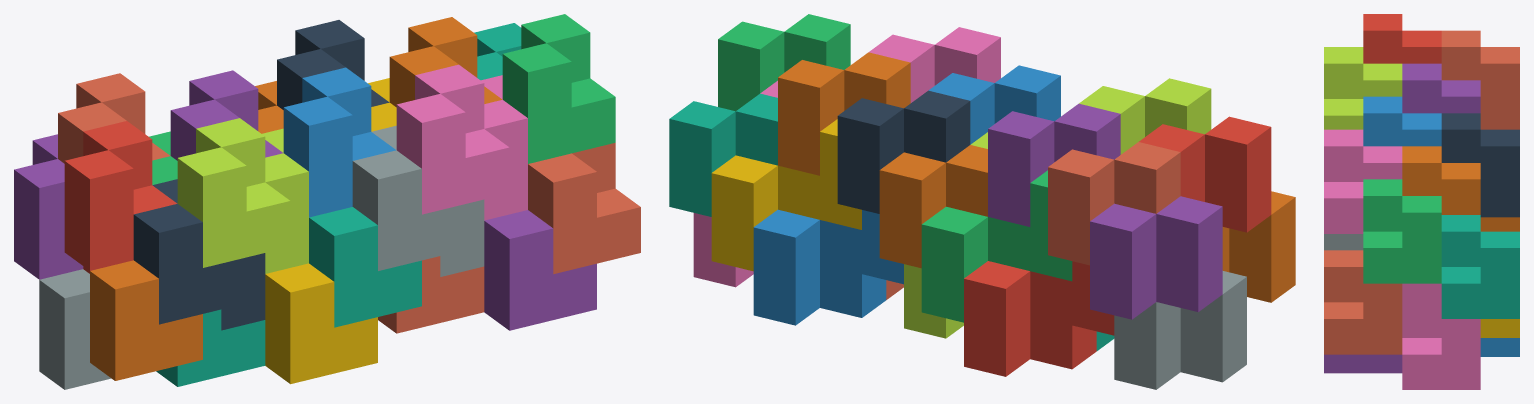
Rendered from tiling.obj.
3 views of the same model, side by side, from view 1: azimuth 30°, elevation 25°; view 2: azimuth 150°, elevation 25°; view 3: azimuth 270°, elevation 25° (orthographic). The views are drawn at different scales.
Parts seen in each view (by area): view 1: copy_27, copy_36, copy_35, copy_25, copy_32, copy_26, copy_28, copy_29, copy_30, copy_33, copy_34, copy_31 (+16 smaller); view 2: copy_5, copy_2, copy_1, copy_10, copy_9, copy_8, copy_25, copy_17, copy_18, copy_7, copy_6, copy_3 (+12 smaller); view 3: copy_27, copy_7, copy_32, copy_12, copy_9, copy_36, copy_8, copy_35, copy_18, copy_17, copy_26, copy_25 (+6 smaller).
Part boxes in pixels (x1,y1,x2,y2): copy_27: (502,14,615,163); copy_36: (396,64,509,214); copy_35: (177,118,290,267); copy_25: (64,121,177,270); copy_32: (528,142,640,274); copy_26: (283,67,395,217); copy_28: (265,263,377,384); copy_29: (484,210,596,330); copy_30: (90,260,202,380); copy_33: (133,179,246,324); copy_34: (352,125,465,270); copy_31: (309,207,421,327); copy_5: (1090,196,1222,319); copy_2: (753,209,886,325); copy_1: (964,261,1096,376); copy_10: (1114,271,1246,389); copy_9: (837,90,970,213); copy_8: (1048,142,1180,265); copy_25: (1139,116,1271,232); copy_17: (988,103,1120,226); copy_18: (778,52,910,175); copy_7: (669,93,777,216); copy_6: (879,145,987,268); copy_3: (921,206,1030,322); copy_27: (1363,179,1441,283); copy_7: (1441,215,1519,318); copy_32: (1324,250,1402,354); copy_12: (1402,302,1480,389); copy_9: (1441,113,1519,217); copy_36: (1324,129,1402,233); copy_8: (1441,30,1519,129); copy_35: (1324,47,1402,129); copy_18: (1402,146,1480,214); copy_17: (1402,63,1480,113); copy_26: (1363,96,1441,146); copy_25: (1363,14,1441,63).
Bounding box in the file's own units: 12 × 5 × 5.
